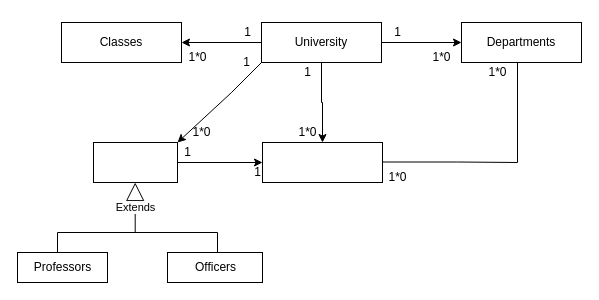
The diagram is 599 pixels wide and 300 high, and some of its shapes have lost their labels. The shapes that lost their labels are listed below. From the top down, each one's centre as x and y in pixels, then its label:
(135,162): Employees
(322,162): Offices
